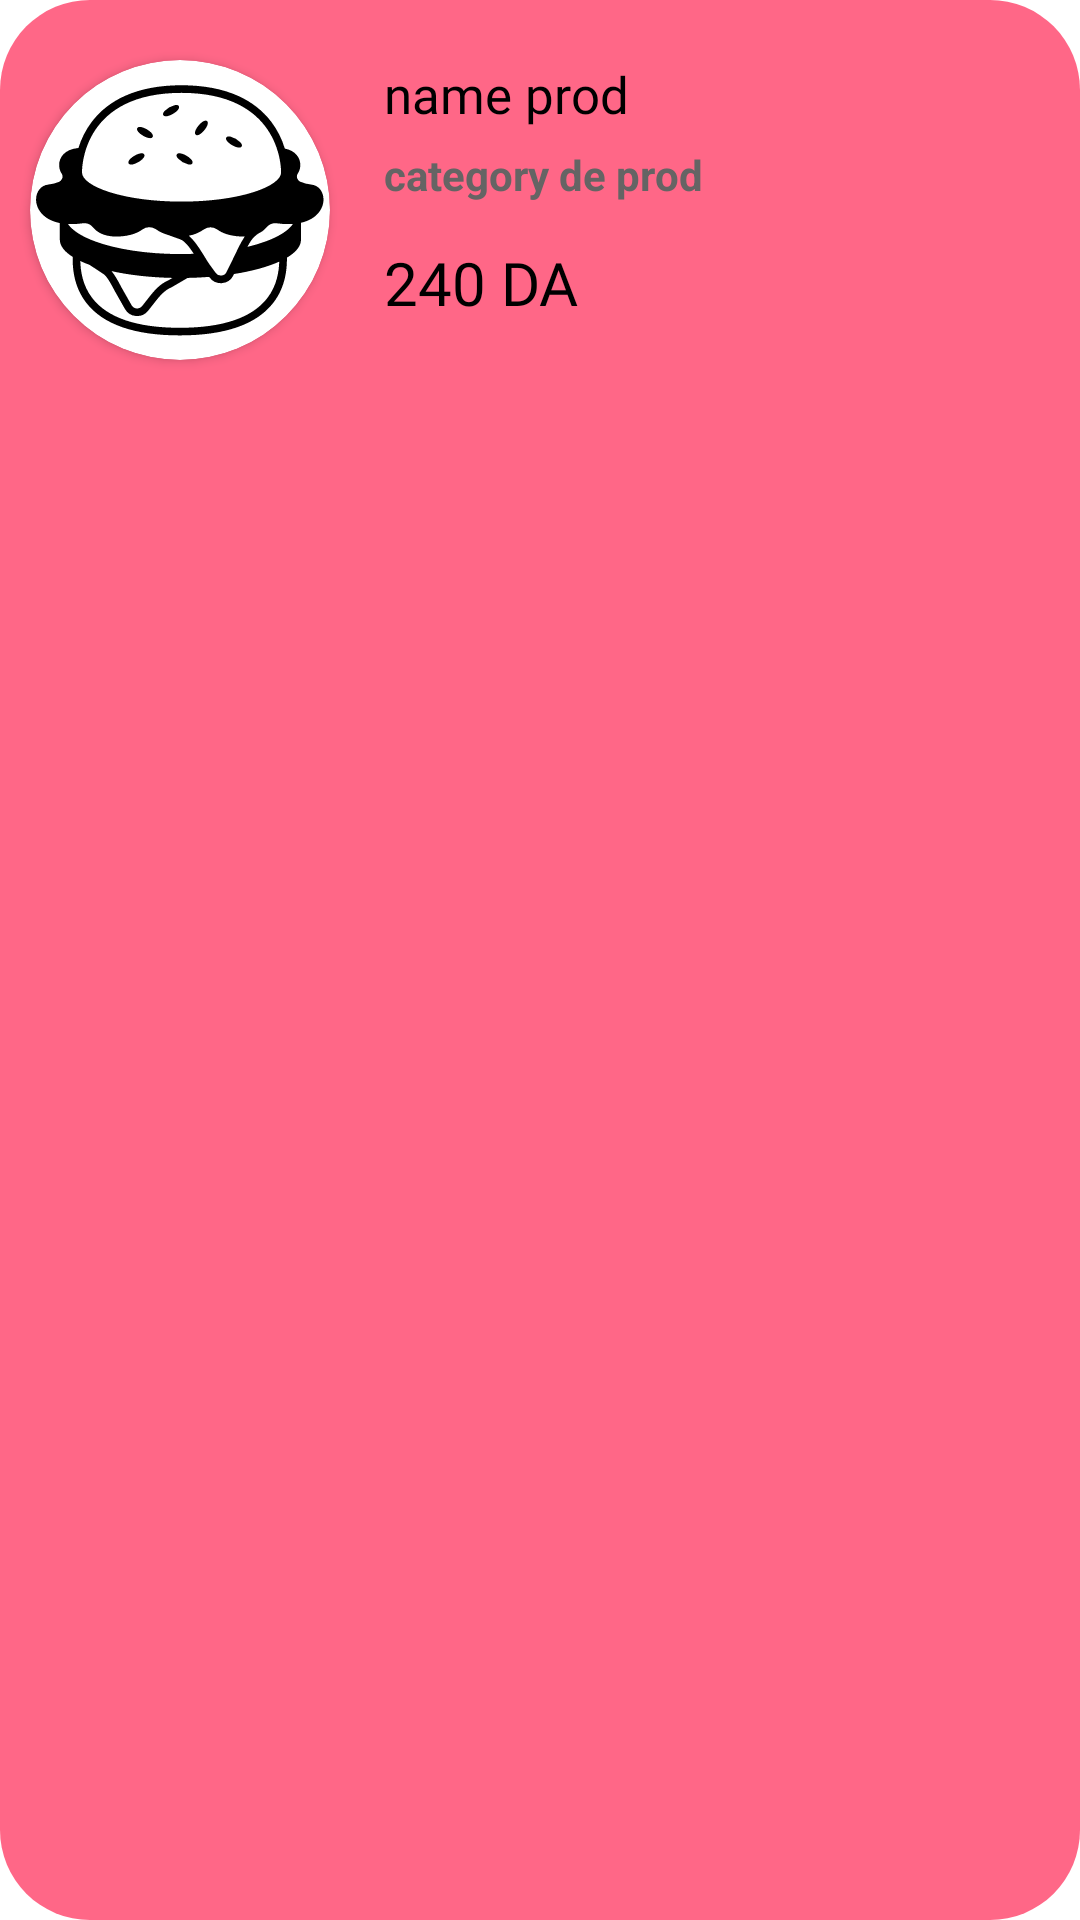

Where to tap for icons on this 1080 × 1920 app screen, as (x=x, y=y):
hamburger: (x=180, y=210)
